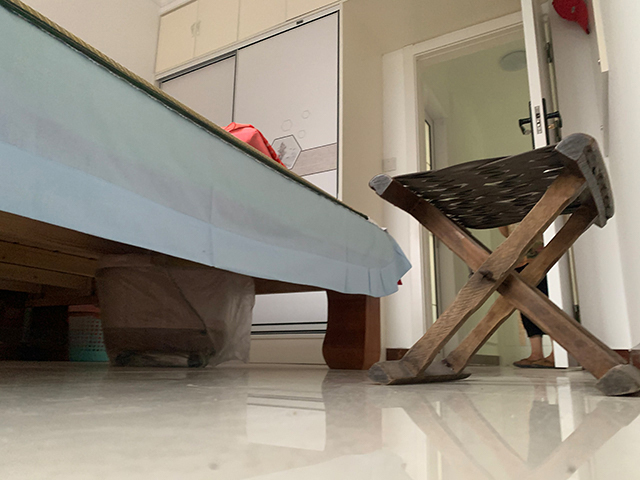bed: (1, 1, 413, 372)
stool: (366, 132, 640, 397)
trashcan: (66, 309, 107, 363)
